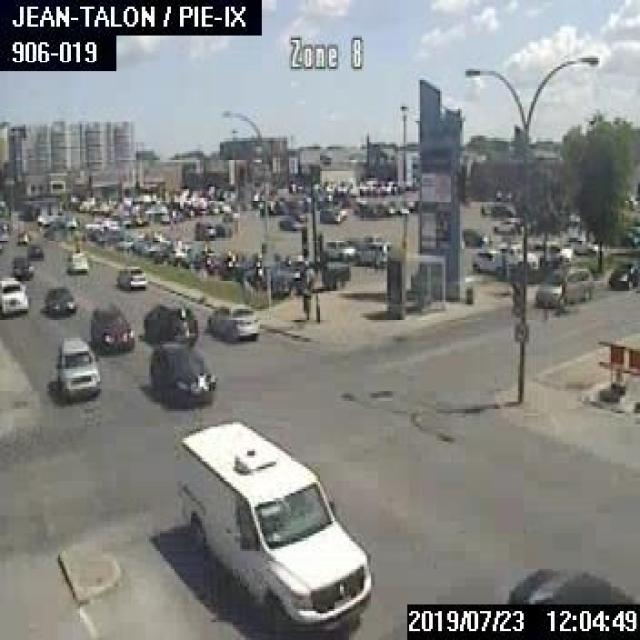construction: (598, 338, 638, 410)
vehicle: (175, 416, 371, 632), (505, 562, 633, 602), (146, 339, 214, 408), (54, 335, 100, 400), (272, 258, 350, 294), (534, 261, 593, 306), (142, 301, 196, 343), (89, 303, 131, 353), (206, 304, 258, 340), (0, 275, 27, 315), (42, 280, 74, 313), (471, 246, 507, 273), (495, 244, 535, 268), (609, 260, 637, 290), (115, 263, 146, 289), (529, 240, 560, 264), (321, 238, 354, 259), (564, 235, 595, 255), (491, 215, 522, 234), (461, 226, 491, 244), (66, 249, 88, 273), (276, 212, 304, 230), (10, 255, 31, 278), (362, 232, 391, 248), (319, 207, 345, 222), (194, 220, 215, 237), (214, 221, 230, 235), (26, 244, 42, 257), (15, 230, 27, 244), (221, 210, 237, 219)
